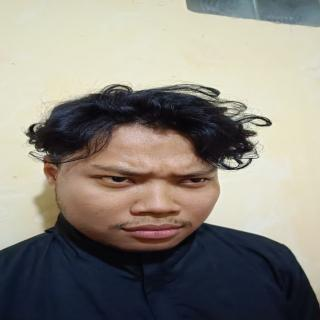Marah: (52, 119, 225, 255)
